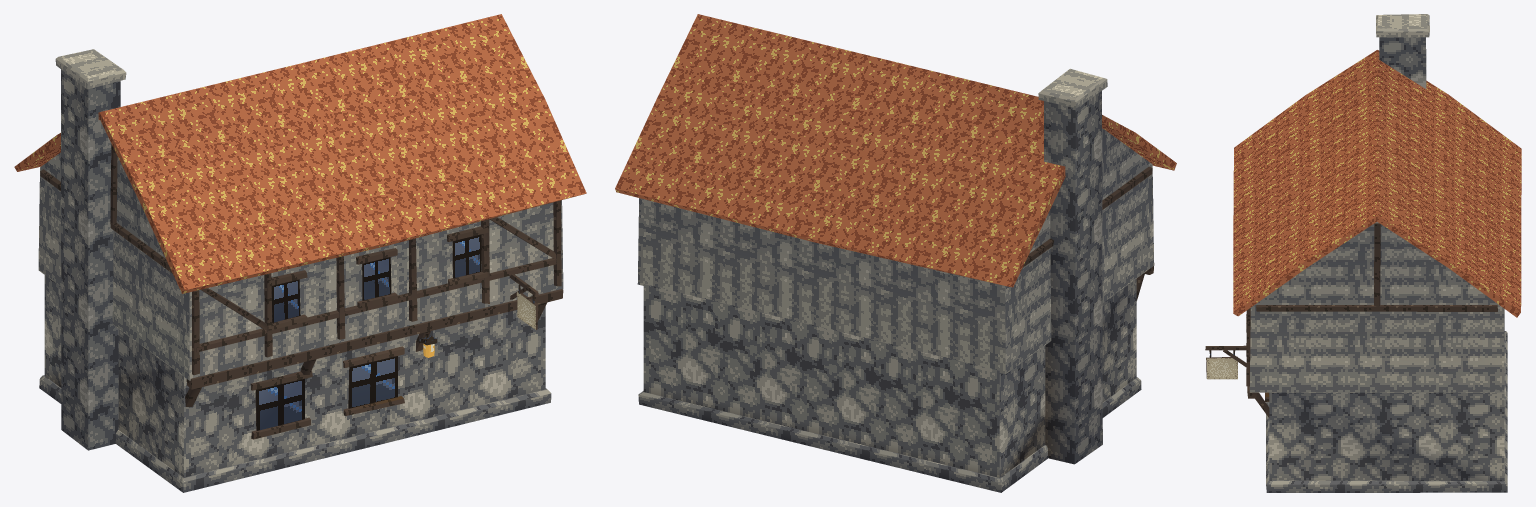
File: vlg.tavern__doorway.glb
3 views of the same model, side by side, from view 1: azimuth 30°, elevation 25°; view 2: azimuth 150°, elevation 25°; view 3: azimuth 270°, elevation 25° (orthographic). The views are drawn at different scales.
Visible parts, largest first — view 1: kit_roof, kit_walls, kit_stonework, kit_frame, kit_fittings; view 2: kit_walls, kit_roof, kit_stonework, kit_frame; view 3: kit_walls, kit_roof, kit_stonework, kit_frame, kit_fittings.
Part boxes in pixels (x1=…): kit_roof: x1=14, y1=14, x2=586, y2=293; kit_walls: x1=38, y1=152, x2=563, y2=477; kit_stonework: x1=39, y1=49, x2=551, y2=492; kit_frame: x1=40, y1=144, x2=563, y2=407; kit_fittings: x1=250, y1=226, x2=538, y2=439; kit_walls: x1=637, y1=128, x2=1154, y2=477; kit_roof: x1=615, y1=14, x2=1176, y2=287; kit_stonework: x1=638, y1=68, x2=1141, y2=492; kit_frame: x1=1022, y1=166, x2=1154, y2=300; kit_walls: x1=1249, y1=222, x2=1504, y2=481; kit_roof: x1=1233, y1=50, x2=1521, y2=317; kit_stonework: x1=1266, y1=14, x2=1507, y2=492; kit_frame: x1=1246, y1=223, x2=1497, y2=417; kit_fittings: x1=1205, y1=314, x2=1269, y2=401.
Bounding box in the file's own units: 10.35 × 8.87 × 8.06.
Materials: 9 (9 with a texture image).
